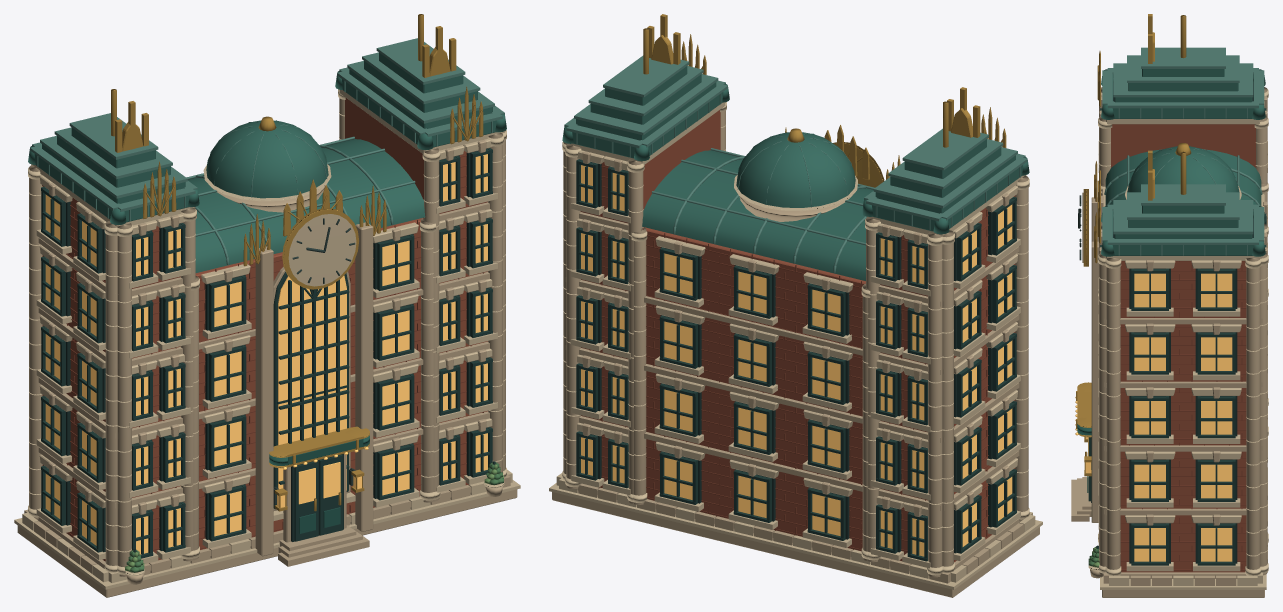
3 views of the same model, side by side, from view 1: azimuth 30°, elevation 25°; view 2: azimuth 150°, elevation 25°; view 3: azimuth 270°, elevation 25° (orthographic). The views are drawn at different scales.
Parts seen in each view (by area): view 1: expansion_finance_3_geometry; view 2: expansion_finance_3_geometry; view 3: expansion_finance_3_geometry.
Part boxes in pixels (<box>): expansion_finance_3_geometry: <box>14,14,520,597</box>; expansion_finance_3_geometry: <box>549,14,1042,597</box>; expansion_finance_3_geometry: <box>1071,14,1268,597</box>.
Bounding box in the file's own units: 2.26 × 2.41 × 1.02.
